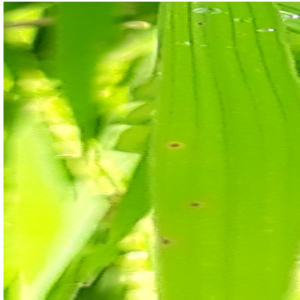Brown_Spot: (162, 136, 186, 155), (155, 230, 176, 250), (184, 195, 206, 213), (193, 18, 206, 30)
